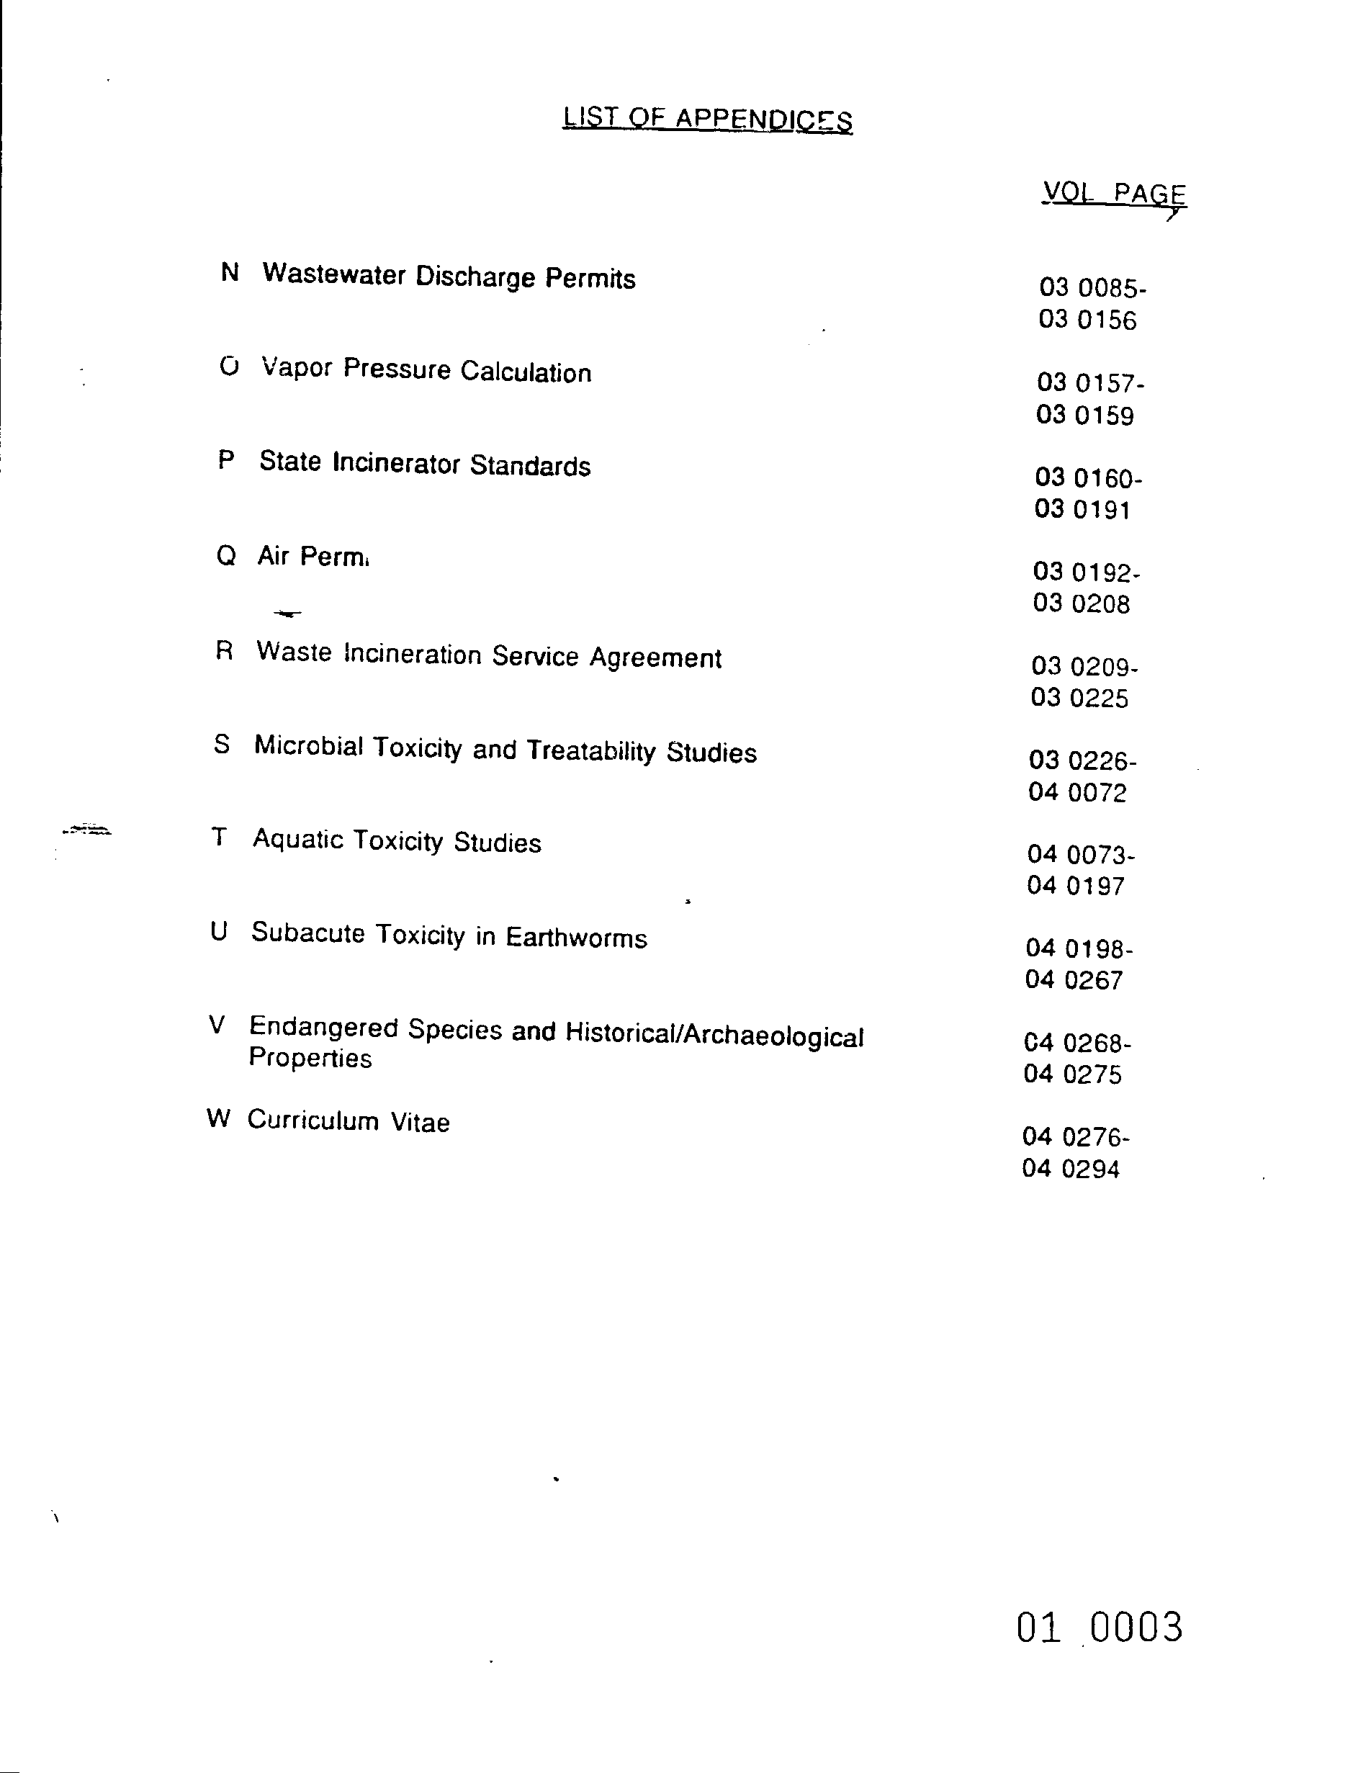nolines: (201, 168, 1183, 1192)
